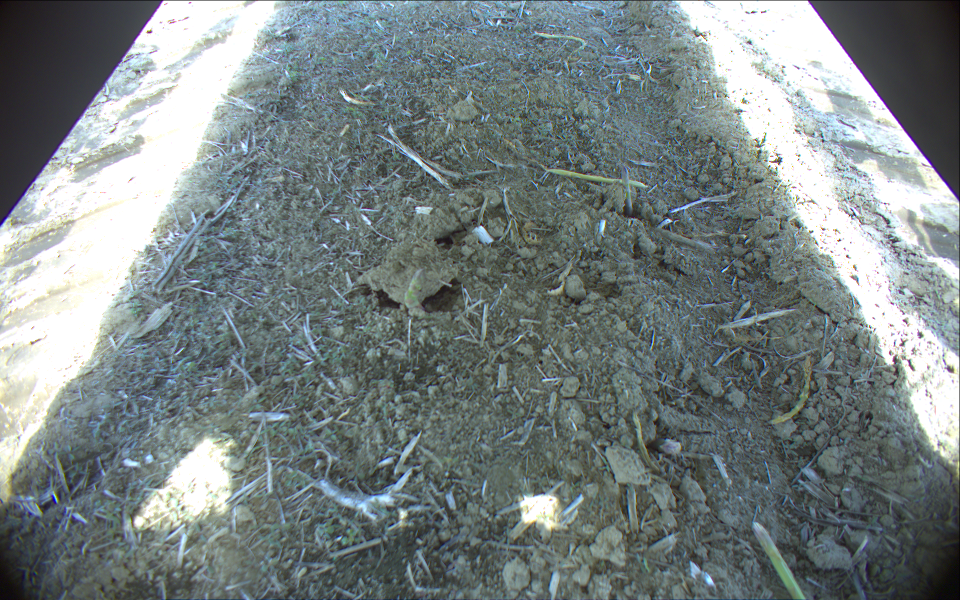aspa: (751, 521, 808, 600), (769, 356, 813, 427), (546, 168, 648, 189), (535, 32, 586, 55), (405, 269, 424, 313), (620, 166, 633, 218)
